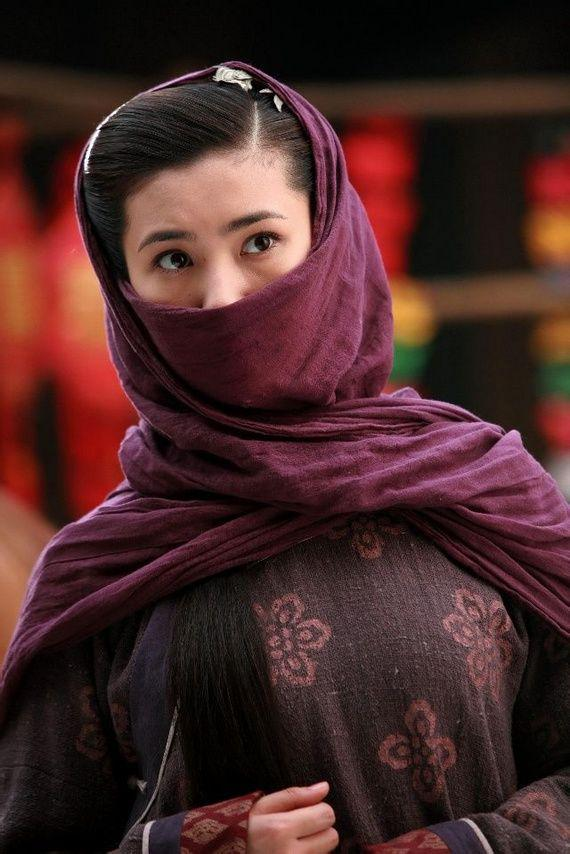WRONG: (131, 210, 314, 393)
